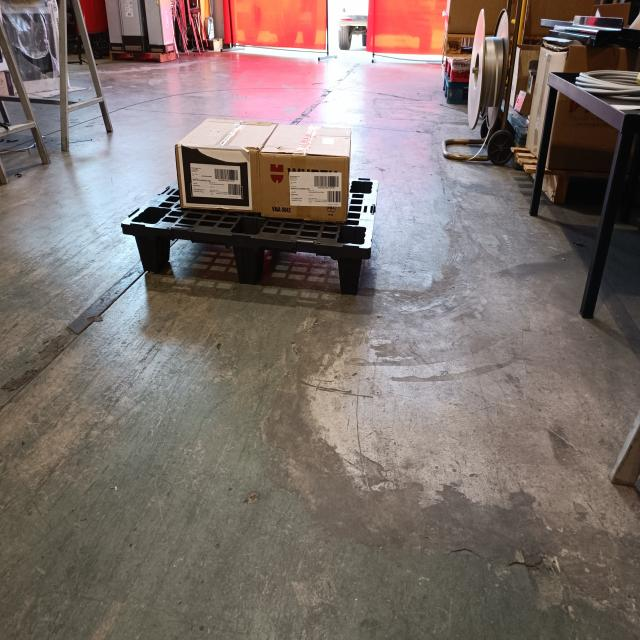block: (127, 224, 180, 278), (224, 226, 266, 288), (329, 237, 369, 301)
front: (121, 219, 372, 294)
